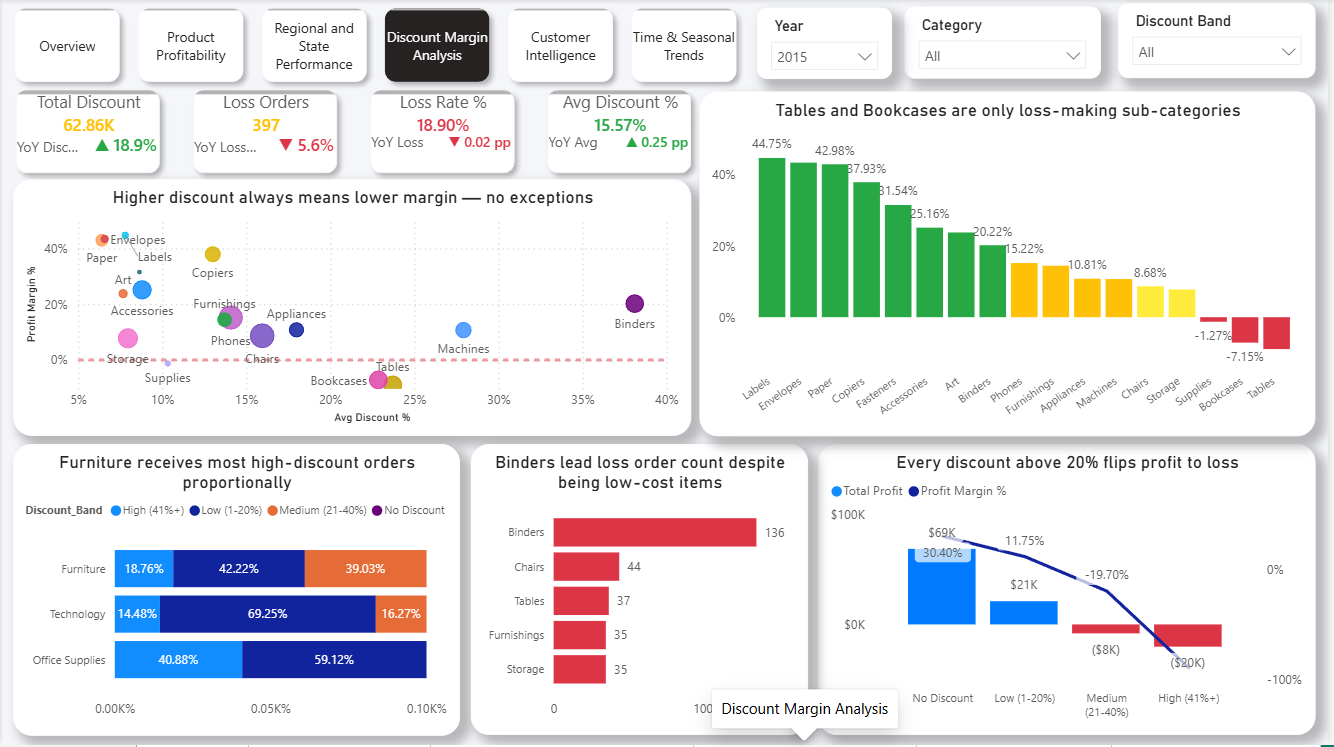

Layout of this report page (visuals, bound fields, positions):
{"tool":"powerbi","page":{"name":"Discount Margin Analysis","canvas":[1280,720],"ordinal":3},"visuals":[{"type":"scatterChart","title":"Higher discount always means lower margin — no exceptions","fields":{"Series":["superstore_clean.Sub_Category"],"Size":["Measures (2).Total Revenue"],"X":["Measures (2).Avg Discount %"],"Y":["Measures (2).Profit Margin %"]},"box":[11,174.3,654.5,248.4],"z":0},{"type":"lineStackedColumnComboChart","title":"Every discount above 20% flips profit to loss","fields":{"Category":["superstore_clean.Discount_Band"],"Y":["Measures (2).Total Profit"],"Y2":["Measures (2).Profit Margin %"]},"box":[787.7,430,480.1,281.1],"z":1000},{"type":"slicer","fields":{"Values":["superstore_clean.Category"]},"box":[871.4,6.9,189.4,70],"z":2000},{"type":"slicer","fields":{"Values":["superstore_clean.Discount_Band"]},"box":[1077.2,4.1,190.7,72.7],"z":3000},{"type":"slicer","title":"YE","fields":{"Values":["superstore_clean.Order_Year"]},"box":[728.6,8.2,130.4,68.6],"z":4000},{"type":"pageNavigator","box":[4.1,0,716.3,89.2],"z":5000},{"type":"cardVisual","fields":{"Data":["Measures (2).Total Discount Given","Measures (2).Loss Orders","Measures (2).Loss Rate %","Measures (2).Avg Discount %"]},"box":[1.4,75.5,676.5,104.3],"z":6000},{"type":"hundredPercentStackedBarChart","title":"Furniture receives most high-discount orders proportionally","fields":{"Category":["superstore_clean.Category"],"Series":["superstore_clean.Discount_Band"],"Y":["Measures (2).Total Discount"]},"box":[11,429.5,430.9,281.3],"z":7000},{"type":"clusteredBarChart","title":"Binders lead loss order count despite being low-cost items","fields":{"Category":["superstore_clean.Sub_Category"],"Y":["Measures (2).Loss Orders"]},"box":[452.3,430,325.6,281.1],"z":8000},{"type":"clusteredColumnChart","title":"Tables and Bookcases are only loss-making sub-categories","fields":{"Category":["superstore_clean.Sub_Category"],"Y":["Measures (2).Profit Margin %"]},"box":[673.5,89.1,594.2,332.6],"z":9000}]}

Visuals, with their boxes in screenshot pixels (x1, y1, x2, y2), scaled from the page's 1280x720 canvas onto the 1334x747 screenshot:
"Higher discount always means lower margin — no exceptions" scatterChart: 11,181,694,439
"Every discount above 20% flips profit to loss" lineStackedColumnComboChart: 821,446,1321,738
slicer - superstore_clean.Category: 908,7,1106,80
slicer - superstore_clean.Discount_Band: 1123,4,1321,80
"YE" slicer: 759,9,895,80
pageNavigator: 4,0,751,93
cardVisual - Measures (2).Total Discount Given x Measures (2).Loss Orders: 1,78,706,187
"Furniture receives most high-discount orders proportionally" hundredPercentStackedBarChart: 11,446,461,737
"Binders lead loss order count despite being low-cost items" clusteredBarChart: 471,446,811,738
"Tables and Bookcases are only loss-making sub-categories" clusteredColumnChart: 702,92,1321,438
